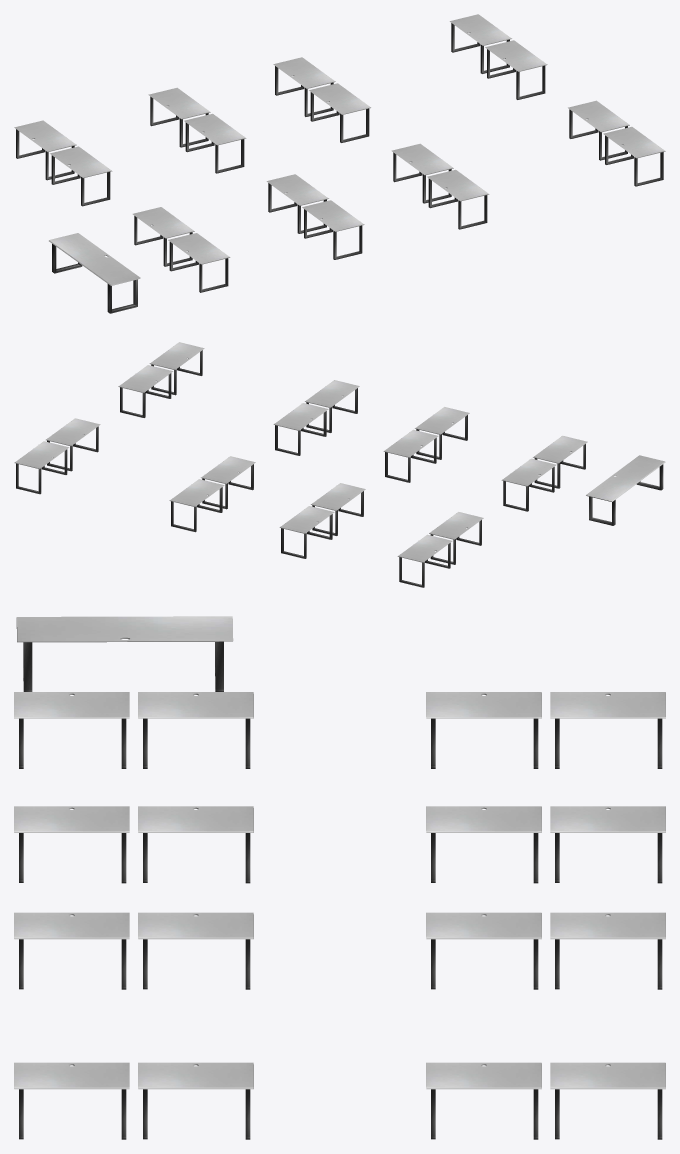
The model's file is mesas todas juntas.fbx.
The picture shows the model from 3 angles, top to bottom: view 1: azimuth 30°, elevation 25°; view 2: azimuth 150°, elevation 25°; view 3: azimuth 270°, elevation 25°; orthographic projection. The views are drawn at different scales.
Parts seen in each view (by area): view 1: mesas todas juntas; view 2: mesas todas juntas; view 3: mesas todas juntas.
Part boxes in pixels (left/top/right/bottom): mesas todas juntas: left=14, top=14, right=665, bottom=313; mesas todas juntas: left=14, top=342, right=665, bottom=587; mesas todas juntas: left=14, top=616, right=665, bottom=1139.
Size of the model in its own units: 2594 by 135 by 1513.
